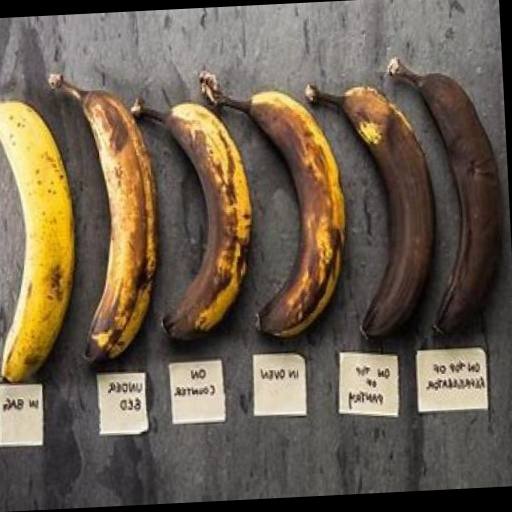fruit: (199, 73, 344, 337), (305, 86, 433, 337), (388, 59, 502, 332), (49, 74, 156, 361), (131, 102, 250, 339)
